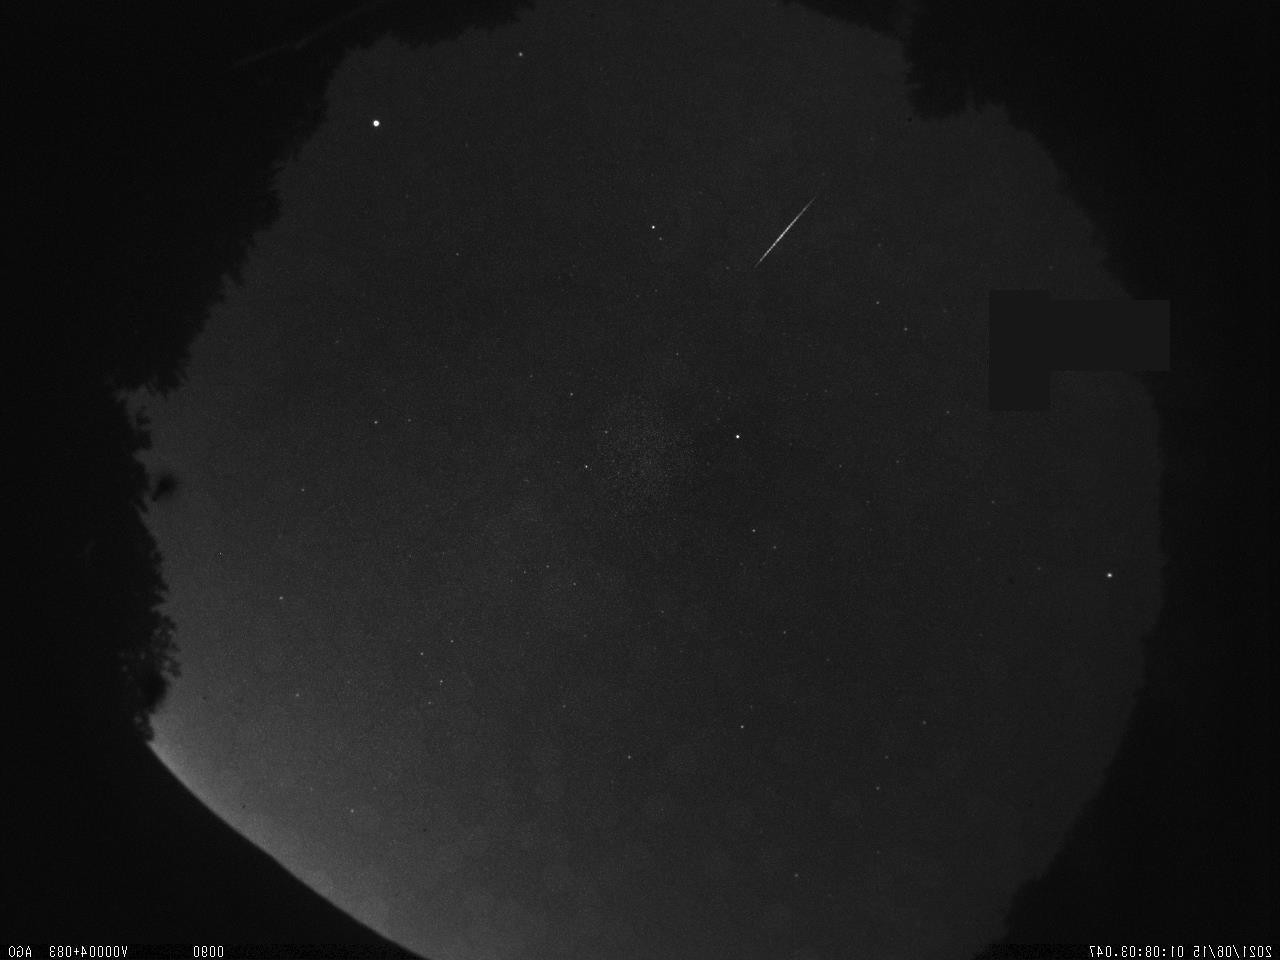meteor: (743, 191, 824, 277)
